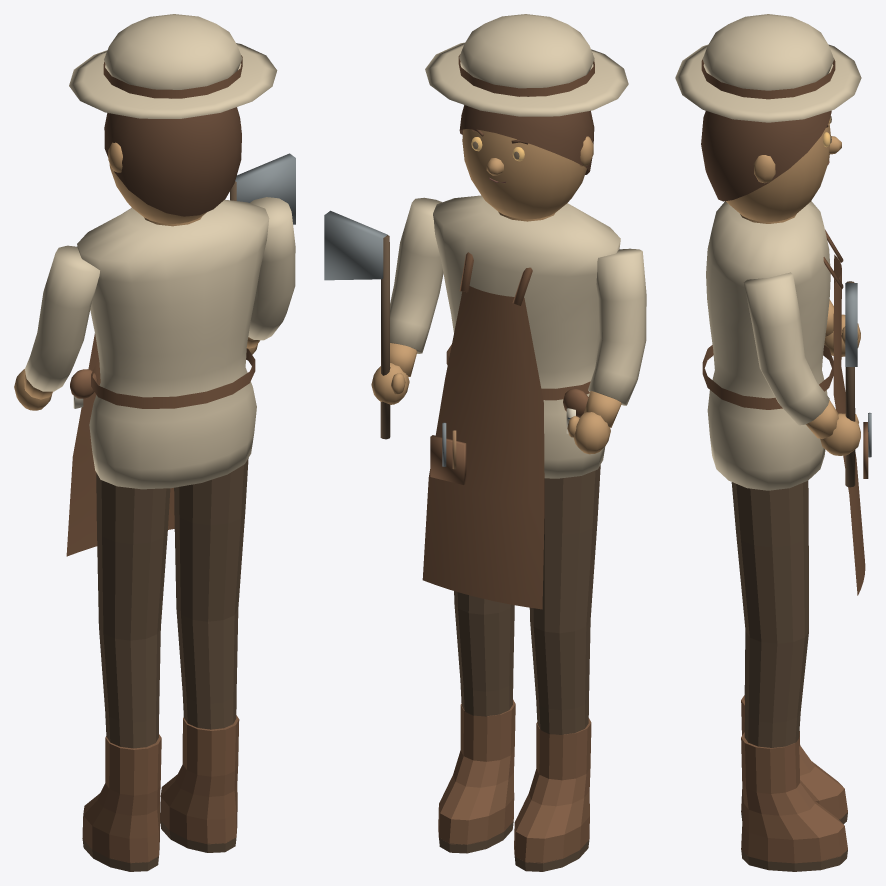
The model's file is SM_NPC_CARP.glb.
3 views of the same model, side by side, from view 1: azimuth 30°, elevation 25°; view 2: azimuth 150°, elevation 25°; view 3: azimuth 270°, elevation 25° (orthographic). The views are drawn at different scales.
Visible parts, largest first — view 1: SM_NPC_CARP_BODY, SM_NPC_CARP_HAIR, SM_NPC_CARP_LEG_L, SM_NPC_CARP_LEG_R, SM_NPC_CARP_ARM_L, SM_NPC_CARP_ARM_R, SM_NPC_CARP_HEAD; view 2: SM_NPC_CARP_BODY, SM_NPC_CARP_LEG_L, SM_NPC_CARP_HAIR, SM_NPC_CARP_LEG_R, SM_NPC_CARP_ARM_R, SM_NPC_CARP_ARM_L, SM_NPC_CARP_HEAD; view 3: SM_NPC_CARP_BODY, SM_NPC_CARP_LEG_R, SM_NPC_CARP_HAIR, SM_NPC_CARP_ARM_R, SM_NPC_CARP_HEAD, SM_NPC_CARP_LEG_L, SM_NPC_CARP_ARM_L.
Boxes of the visible parts, bbox=[...] form: SM_NPC_CARP_BODY: bbox=[66, 199, 269, 556]; SM_NPC_CARP_HAIR: bbox=[69, 14, 277, 216]; SM_NPC_CARP_LEG_L: bbox=[82, 473, 170, 871]; SM_NPC_CARP_LEG_R: bbox=[160, 458, 248, 852]; SM_NPC_CARP_ARM_L: bbox=[14, 245, 99, 410]; SM_NPC_CARP_ARM_R: bbox=[230, 153, 295, 354]; SM_NPC_CARP_HEAD: bbox=[108, 126, 241, 223]; SM_NPC_CARP_BODY: bbox=[422, 195, 620, 609]; SM_NPC_CARP_LEG_L: bbox=[514, 465, 600, 871]; SM_NPC_CARP_HAIR: bbox=[425, 14, 628, 174]; SM_NPC_CARP_LEG_R: bbox=[438, 591, 515, 853]; SM_NPC_CARP_ARM_R: bbox=[324, 197, 443, 439]; SM_NPC_CARP_ARM_L: bbox=[567, 248, 646, 454]; SM_NPC_CARP_HEAD: bbox=[462, 129, 593, 219]; SM_NPC_CARP_BODY: bbox=[702, 201, 871, 595]; SM_NPC_CARP_LEG_R: bbox=[731, 481, 847, 871]; SM_NPC_CARP_HAIR: bbox=[675, 14, 861, 201]; SM_NPC_CARP_ARM_R: bbox=[743, 272, 860, 487]; SM_NPC_CARP_HEAD: bbox=[726, 122, 841, 221]; SM_NPC_CARP_LEG_L: bbox=[741, 488, 847, 824]; SM_NPC_CARP_ARM_L: bbox=[824, 299, 860, 356].
Bounding box in the file's own units: 0.6861 × 1.89 × 0.4122.
